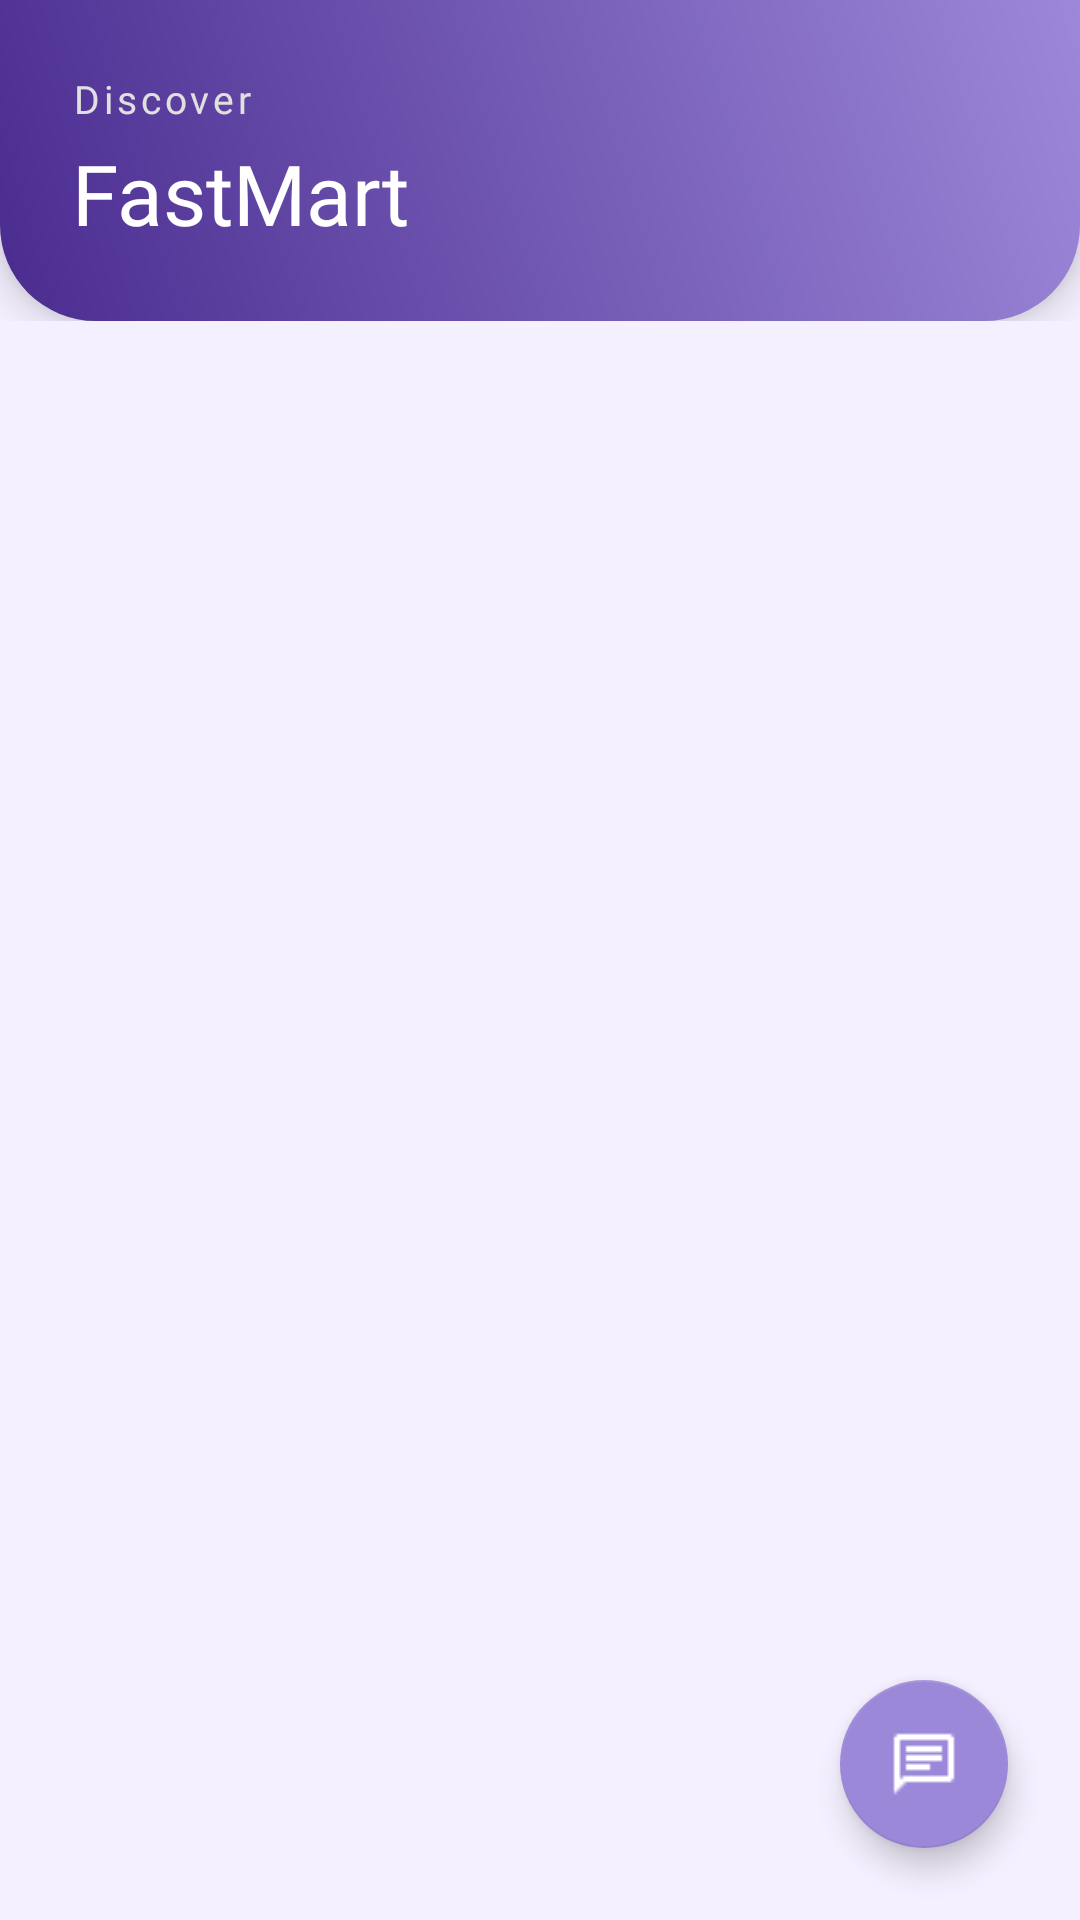

Screen size 1080px×1920px. Icon name, then its center in pixels as (x,y):
chat: (924,1764)
